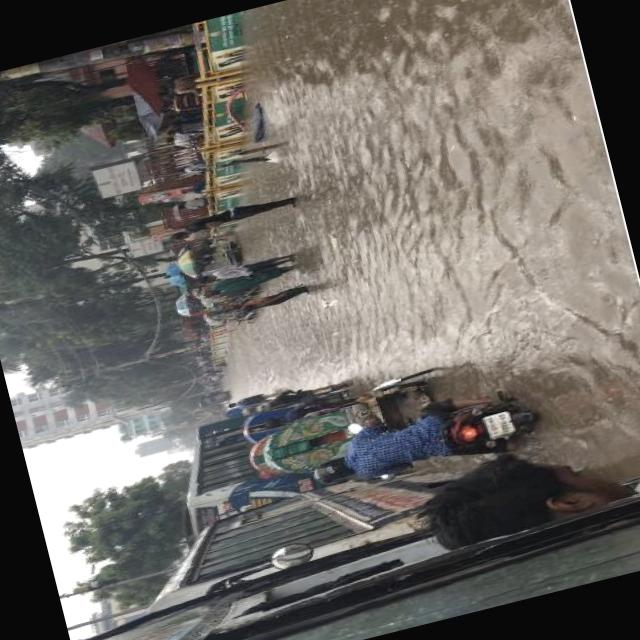motorcycle: (297, 379, 538, 501), (251, 362, 458, 473), (233, 376, 357, 442), (199, 295, 252, 332)
